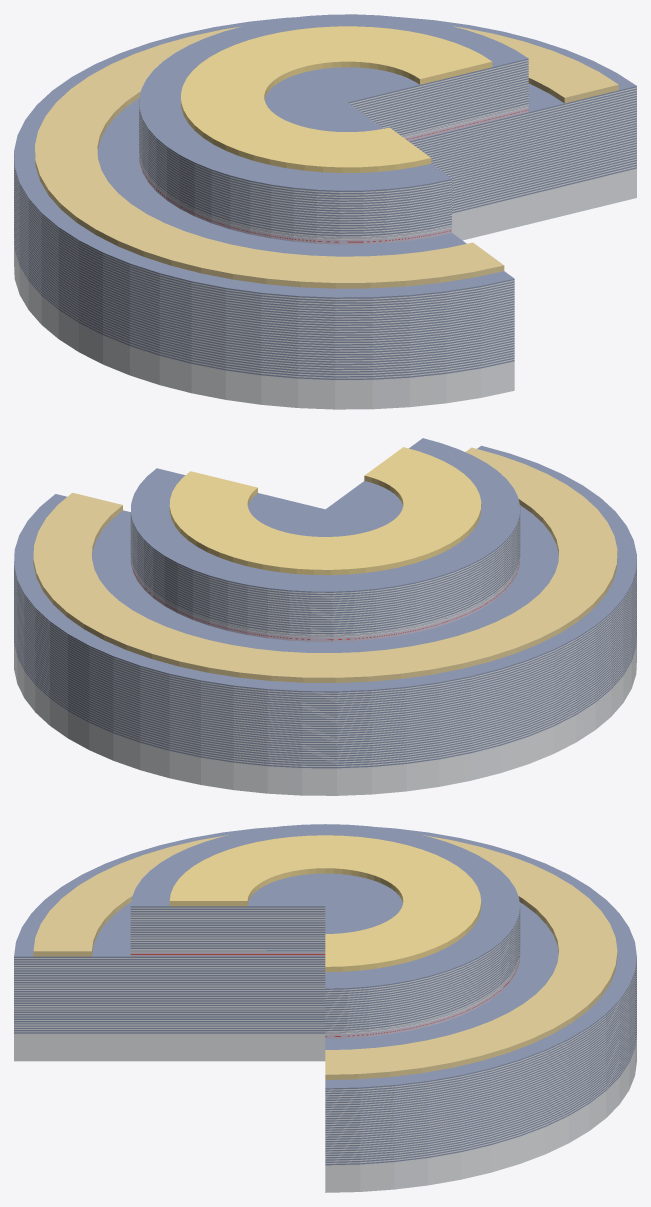
File: stack-vcsel.glb
The picture shows the model from 3 angles, top to bottom: view 1: azimuth 30°, elevation 25°; view 2: azimuth 150°, elevation 25°; view 3: azimuth 270°, elevation 25°; orthographic projection. The views are drawn at different scales.
Parts seen in each view (by area): view 1: dbrl, dbrh, nmetal, pmetal, gaas, cav, alox; view 2: dbrl, dbrh, nmetal, pmetal, gaas, cav; view 3: dbrl, dbrh, nmetal, pmetal, gaas, cav.
Boxes of the visible parts, left/top/right/bottom form: dbrl: left=14, top=14, right=636, bottom=379; dbrh: left=14, top=60, right=636, bottom=381; nmetal: left=35, top=26, right=618, bottom=288; pmetal: left=181, top=26, right=492, bottom=172; gaas: left=14, top=169, right=636, bottom=409; cav: left=139, top=107, right=528, bottom=244; alox: left=139, top=105, right=528, bottom=238; dbrl: left=14, top=438, right=636, bottom=768; dbrh: left=14, top=508, right=636, bottom=769; nmetal: left=33, top=447, right=617, bottom=682; pmetal: left=169, top=447, right=481, bottom=575; gaas: left=14, top=637, right=636, bottom=795; cav: left=130, top=553, right=520, bottom=641; dbrl: left=14, top=824, right=636, bottom=1165; dbrh: left=14, top=907, right=636, bottom=1166; nmetal: left=33, top=835, right=617, bottom=1079; pmetal: left=169, top=835, right=481, bottom=972; gaas: left=14, top=1034, right=636, bottom=1192; cav: left=130, top=952, right=520, bottom=1038.
Size of the model in its own units: 32 by 9.07 by 32.
